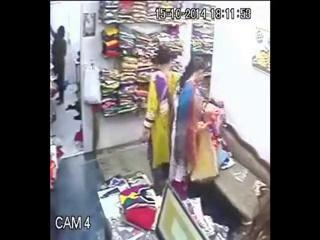shoplifting: (177, 52, 224, 185)
